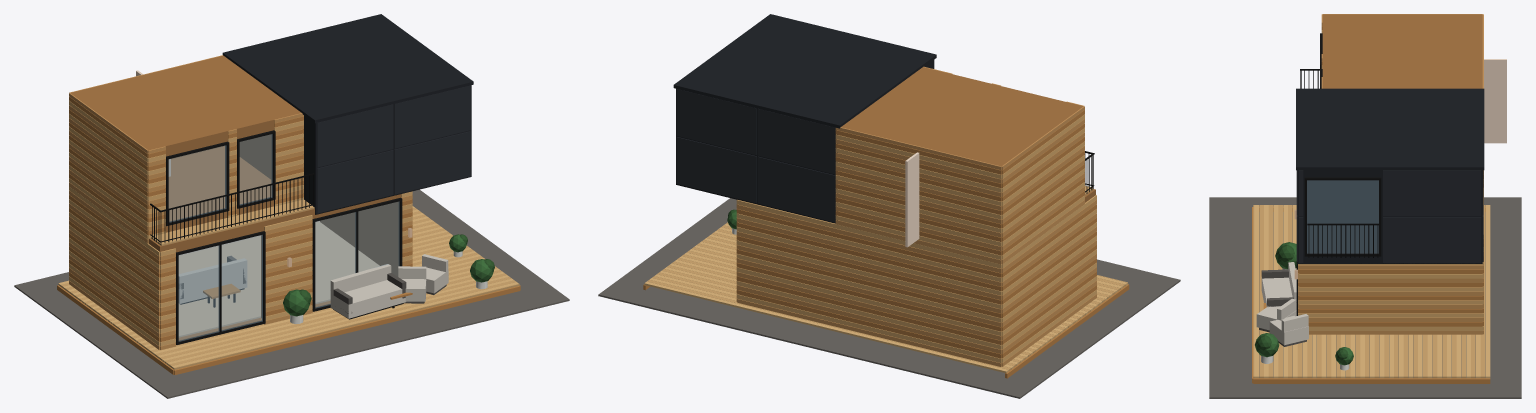
The model's file is modern-house-kestrix-style.glb.
3 renders of one model, left to right at view 1: azimuth 30°, elevation 25°; view 2: azimuth 150°, elevation 25°; view 3: azimuth 270°, elevation 25°, orthographic. The views are drawn at different scales.
Visible parts, largest first — view 1: structure, glass, dark, stone, panel, woodC, woodA, woodB, deckA, interior, fabric, deckB (+4 smaller); view 2: woodA, woodB, woodC, dark, stone, panel, structure, deckB, deckA, interiorWall; view 3: dark, stone, structure, panel, deckB, deckA, woodC, woodA, glass, woodB, fabric, interiorWall (+5 smaller).
Boxes of the visible parts, <box> form: structure: <box>70,55,400,340</box>; glass: <box>168,134,399,341</box>; dark: <box>222,14,473,214</box>; stone: <box>14,189,569,398</box>; panel: <box>317,85,470,213</box>; woodC: <box>57,96,520,374</box>; woodA: <box>69,55,412,349</box>; woodB: <box>69,101,412,346</box>; deckA: <box>60,199,519,369</box>; interior: <box>178,221,379,337</box>; fabric: <box>178,254,448,318</box>; deckB: <box>58,206,518,369</box>; woodA: <box>736,66,1096,366</box>; woodB: <box>736,114,1096,362</box>; woodC: <box>643,110,1129,378</box>; dark: <box>673,14,936,223</box>; stone: <box>598,198,1180,398</box>; panel: <box>676,89,837,222</box>; structure: <box>841,67,1095,202</box>; deckB: <box>644,223,1127,373</box>; deckA: <box>647,185,1127,370</box>; interiorWall: <box>905,152,919,247</box>; dark: <box>1296,88,1484,263</box>; stone: <box>1209,197,1521,398</box>; structure: <box>1322,14,1482,88</box>; panel: <box>1296,170,1483,262</box>; deckB: <box>1254,205,1490,378</box>; deckA: <box>1253,205,1485,378</box>; woodC: <box>1252,26,1490,383</box>; woodA: <box>1298,14,1483,334</box>; glass: <box>1307,180,1378,253</box>; woodB: <box>1298,30,1483,330</box>; fabric: <box>1256,262,1308,345</box>; interiorWall: <box>1484,59,1506,143</box>.
Size of the model in its own units: 11.3 by 5.4 by 7.46.
